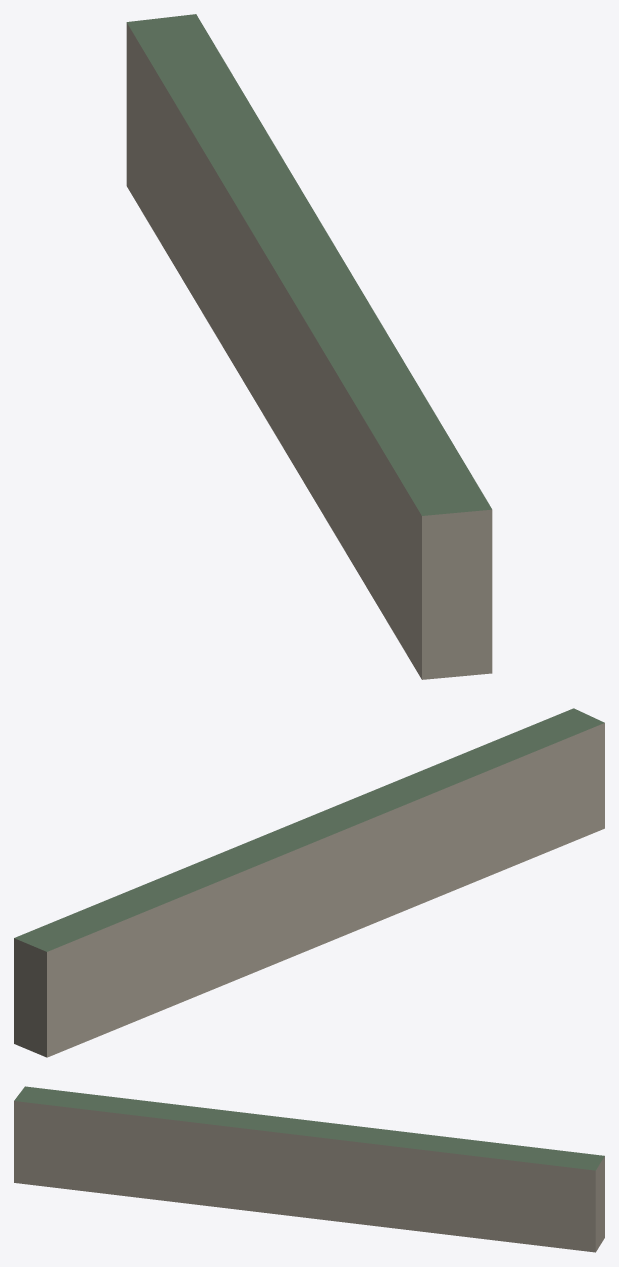
3 renders of one model, top to bottom at view 1: azimuth 30°, elevation 25°; view 2: azimuth 150°, elevation 25°; view 3: azimuth 270°, elevation 25°, orthographic. The views are drawn at different scales.
Parts seen in each view (by area): view 1: tuile; view 2: tuile; view 3: tuile.
Part boxes in pixels (bbox=[...]): tuile: bbox=[126, 14, 492, 679]; tuile: bbox=[14, 708, 604, 1057]; tuile: bbox=[14, 1086, 604, 1252].
Bounding box in the file's own units: 32.49 × 14.75 × 96.4.
